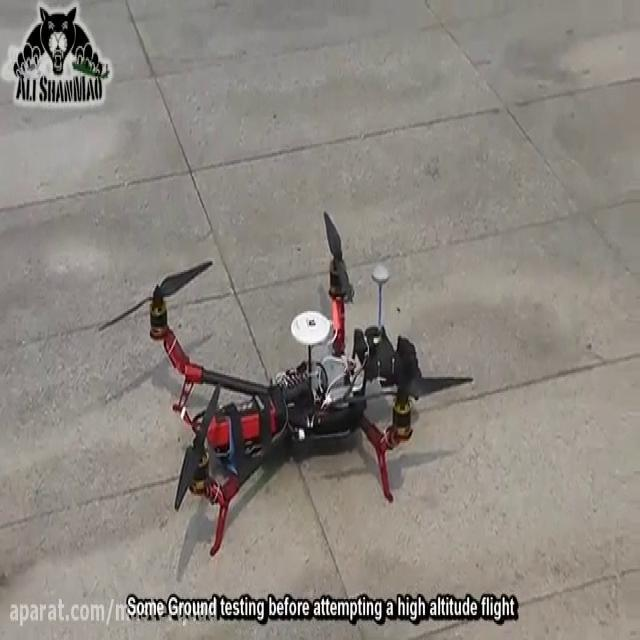drone: (95, 203, 475, 556)
